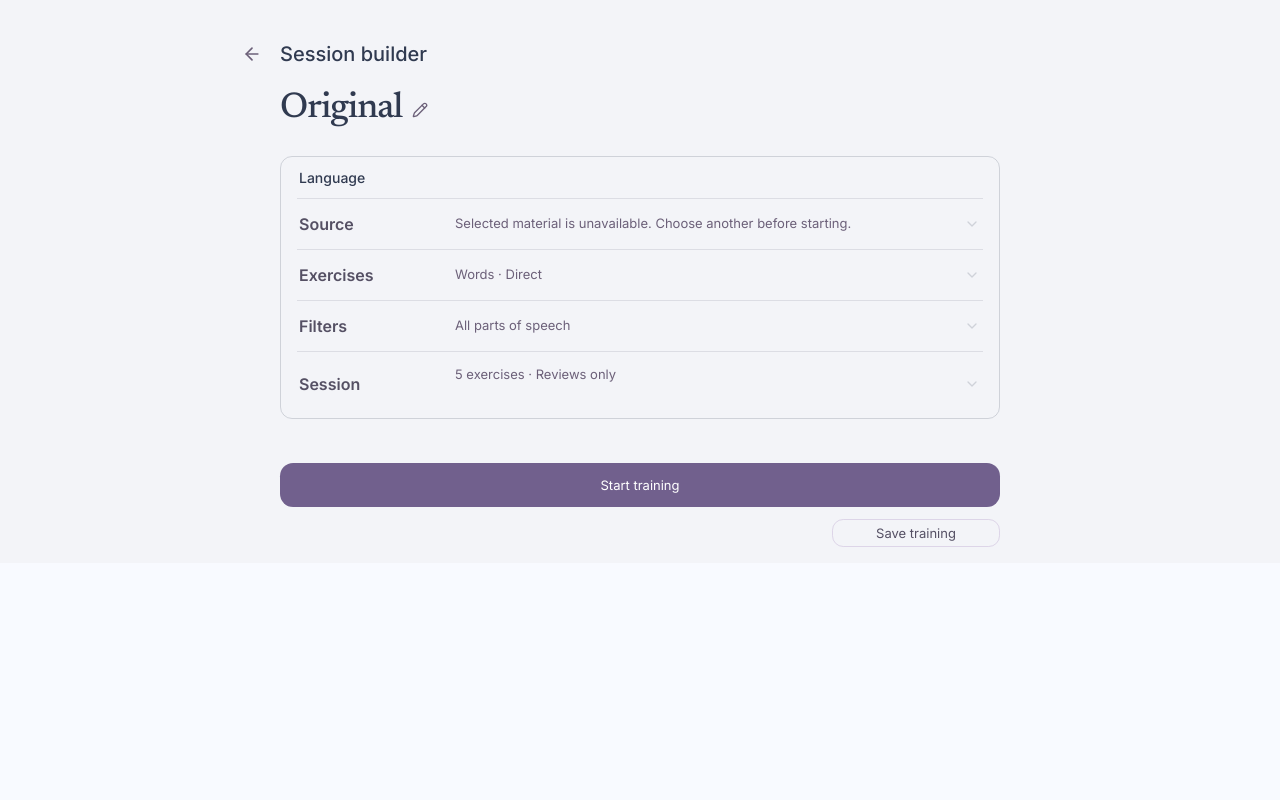
it: new training retains name prompt; copy/deletion controls do not appear
Expected: the field labelled "Training name" is not shown
Step 1. Click the button "Save training" → (916, 533), box left=833, top=520, right=999, bottom=546
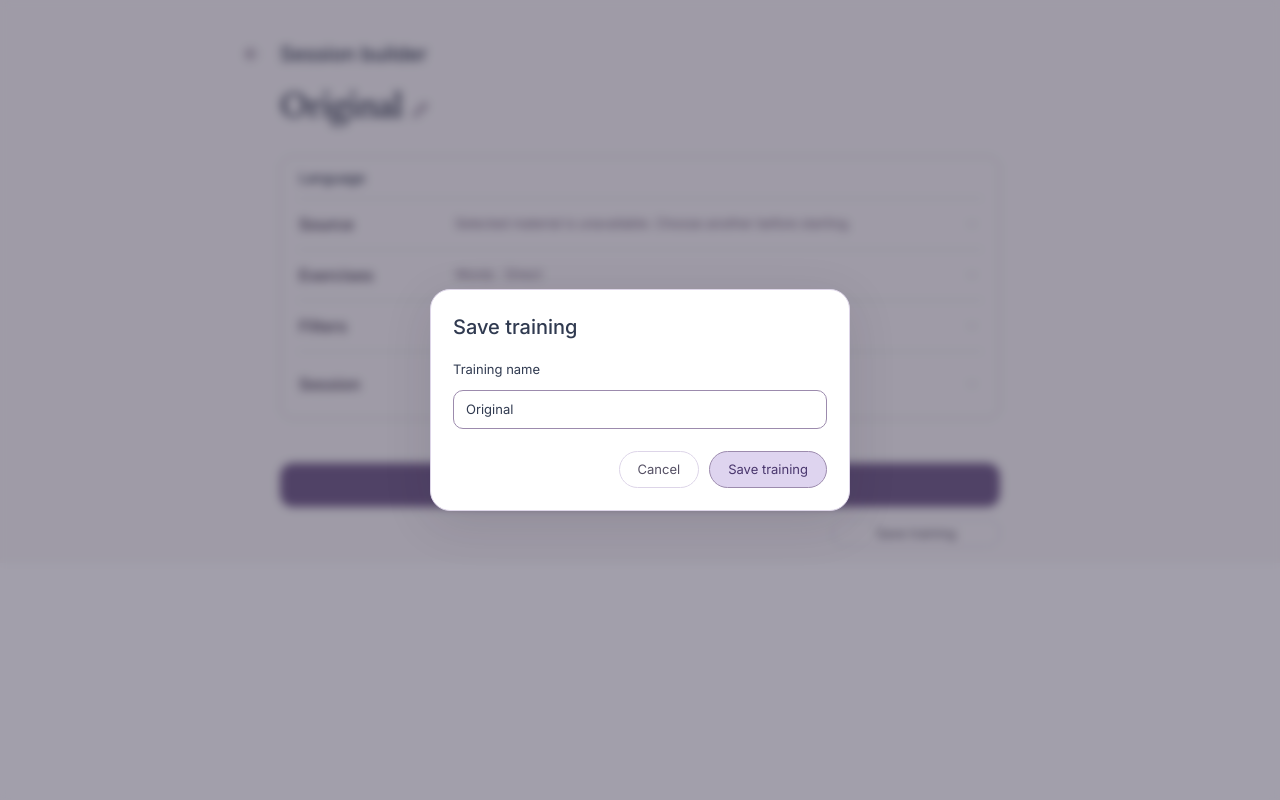
Expected: the dialog "Save training" is shown, left=430, top=289, right=850, bottom=511
